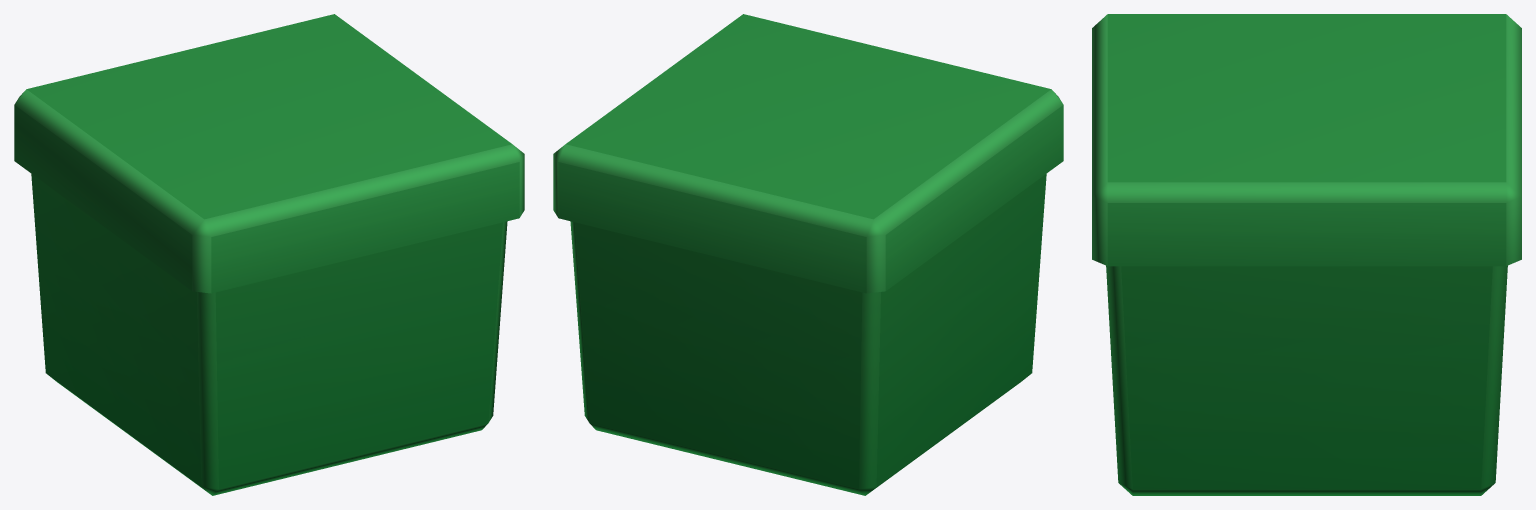
File: giftbox_017.fbx
3 renders of one model, left to right at view 1: azimuth 30°, elevation 25°; view 2: azimuth 150°, elevation 25°; view 3: azimuth 270°, elevation 25°, orthographic. The views are drawn at different scales.
Parts seen in each view (by area): view 1: giftbox_017; view 2: giftbox_017; view 3: giftbox_017.
Part boxes in pixels (x1,y1,x2,y2): giftbox_017: (14,14,524,495); giftbox_017: (553,14,1063,495); giftbox_017: (1092,14,1521,495).
Bounding box in the file's own units: 192 × 192 × 160.
